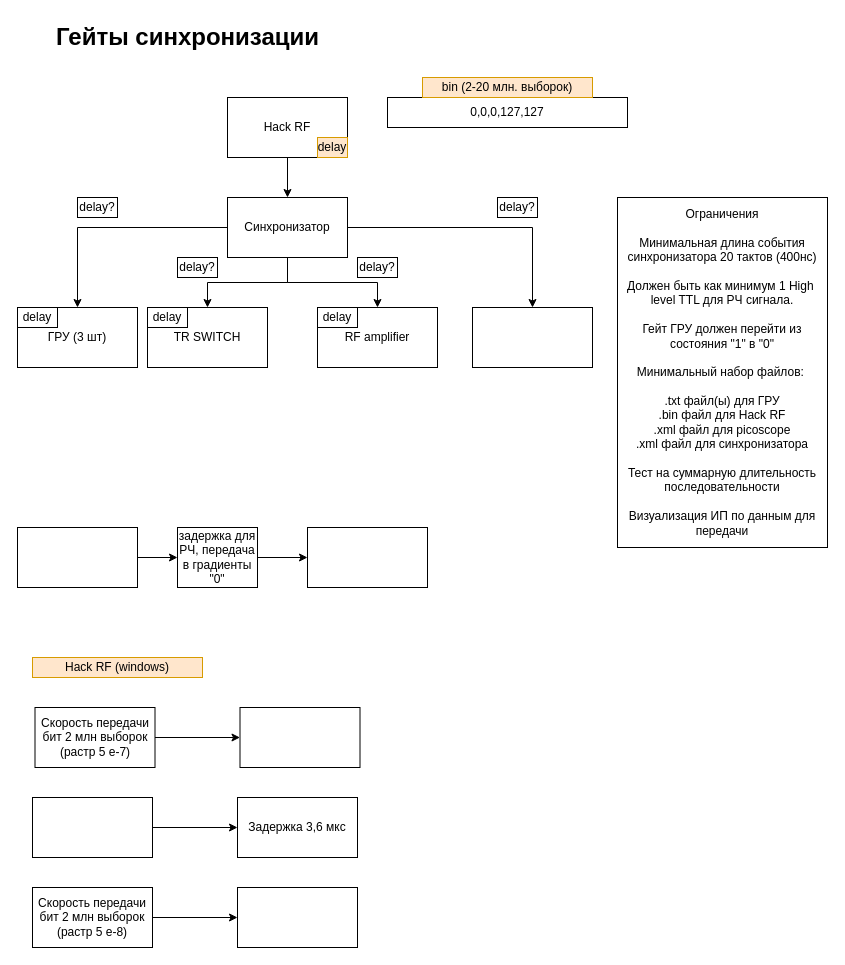
Image size: 845x965. Some labels were removed from this diagram. Each missing label, with the centre of its shape:
Picoscope: pixel 532 337
Задержка 1,77 мкс: pixel 297 917
Задержка 17,7 мкс: pixel 299 737
задержка для РЧ, передача в градиенты "1": pixel 77 557
РЧ: pixel 367 557
Скорость передачи бит 2 млн выборок (растр 2,5 e-8): pixel 92 827
